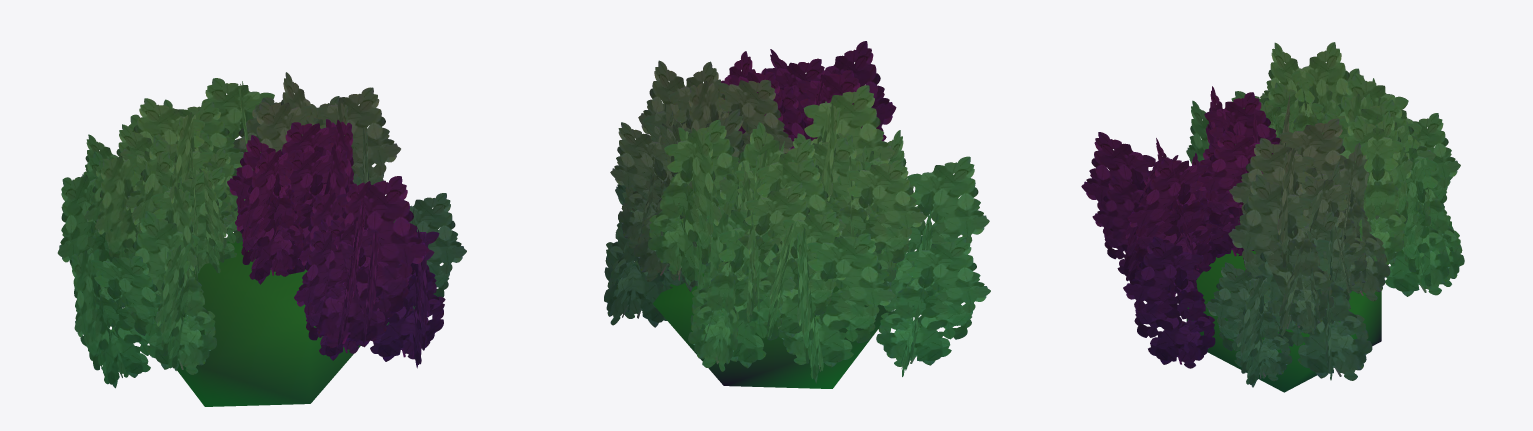
The model's file is nat_bush_green_a_LOD1.glb.
The picture shows the model from 3 angles, left to right: view 1: azimuth 30°, elevation 25°; view 2: azimuth 150°, elevation 25°; view 3: azimuth 270°, elevation 25°; orthographic projection. The views are drawn at different scales.
Parts seen in each view (by area): view 1: geometry_0; view 2: geometry_0; view 3: geometry_0.
Boxes of the visible parts, x1=… form: geometry_0: x1=57, y1=72, x2=466, y2=406; geometry_0: x1=604, y1=41, x2=990, y2=388; geometry_0: x1=1081, y1=42, x2=1464, y2=392.
Size of the model in its own units: 1.5 by 1.04 by 1.48.
Materials: 1 (1 with a texture image).
